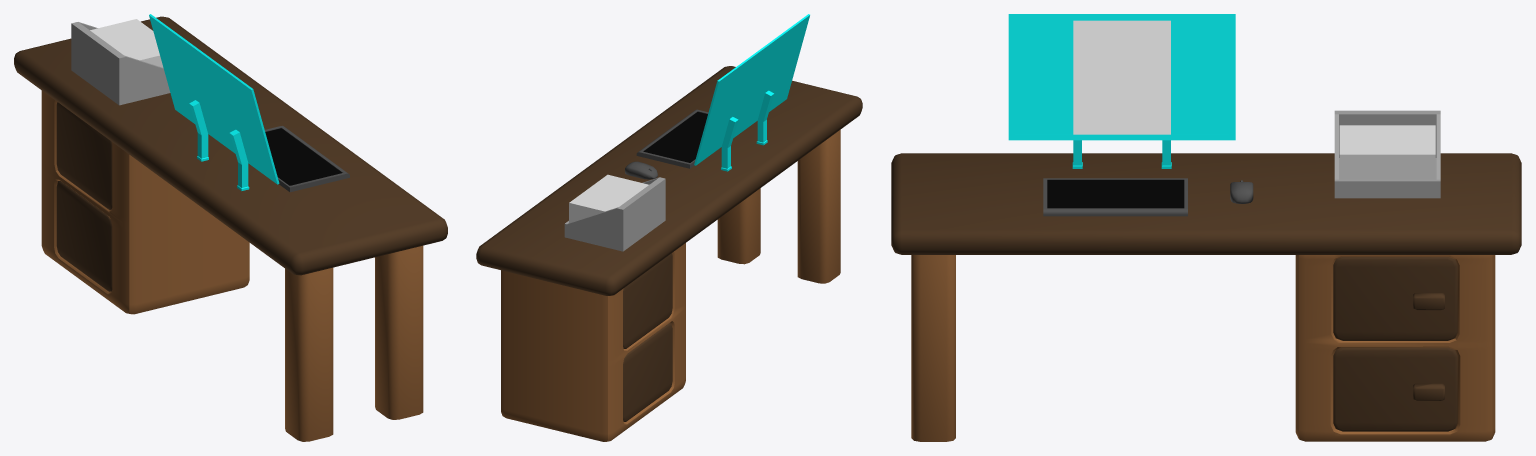
Rendered from manager Station.fbx.
3 renders of one model, left to right at view 1: azimuth 30°, elevation 25°; view 2: azimuth 150°, elevation 25°; view 3: azimuth 270°, elevation 25°, orthographic. The views are drawn at different scales.
Parts seen in each view (by area): view 1: Table, Drawer, Cube, Screen, Cube.002, Keyboard, Cube.003; view 2: Drawer, Table, Cube, Screen, Cube.002, Keyboard, Cube.003, Cube.001; view 3: Table, Drawer, Screen, Cube, Keyboard, Cube.003, Cube.002, Knob.
Part boxes in pixels (x1,y1,x2,y2): Table: [14, 16, 447, 275]; Drawer: [41, 90, 249, 314]; Cube: [285, 245, 423, 441]; Screen: [149, 14, 279, 190]; Cube.002: [71, 22, 170, 105]; Keyboard: [264, 126, 349, 192]; Cube.003: [90, 19, 163, 67]; Drawer: [501, 243, 685, 441]; Table: [476, 66, 862, 295]; Cube: [717, 130, 840, 283]; Screen: [694, 14, 809, 171]; Cube.002: [564, 177, 665, 251]; Keyboard: [636, 109, 708, 168]; Cube.003: [569, 174, 648, 222]; Cube.001: [625, 161, 657, 179]; Table: [891, 153, 1521, 254]; Drawer: [1295, 255, 1495, 441]; Screen: [1008, 14, 1235, 168]; Cube: [911, 255, 955, 441]; Keyboard: [1043, 178, 1187, 216]; Cube.003: [1339, 125, 1435, 179]; Cube.002: [1334, 110, 1440, 198]; Knob: [1413, 293, 1444, 400].
Bounding box in the file's own units: 200 × 399 × 631.
